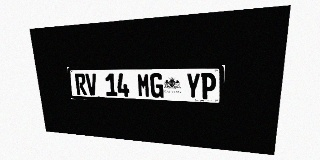1: (104, 73, 117, 96)
4: (116, 73, 129, 97)
G: (150, 73, 164, 98)
M: (137, 73, 150, 97)
P: (201, 73, 216, 100)
R: (75, 73, 87, 95)
V: (85, 73, 98, 96)
Y: (186, 73, 200, 99)
